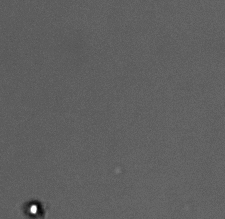Living Cell: (26, 200, 41, 216)
